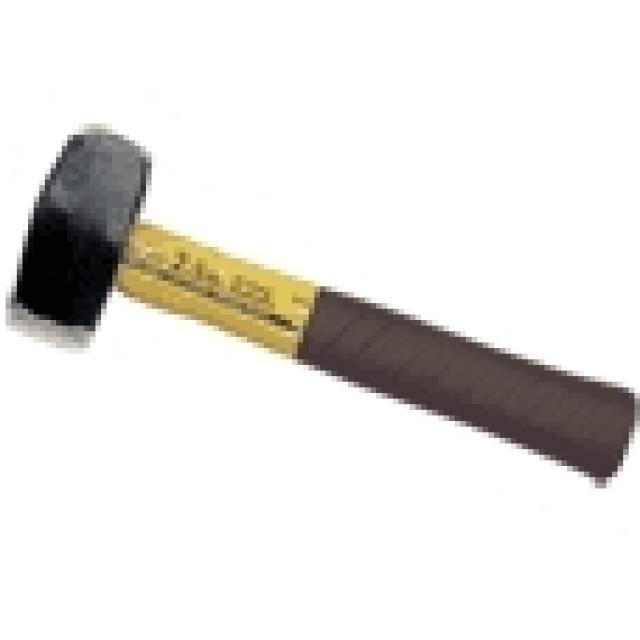hammer: (6, 115, 640, 491)
